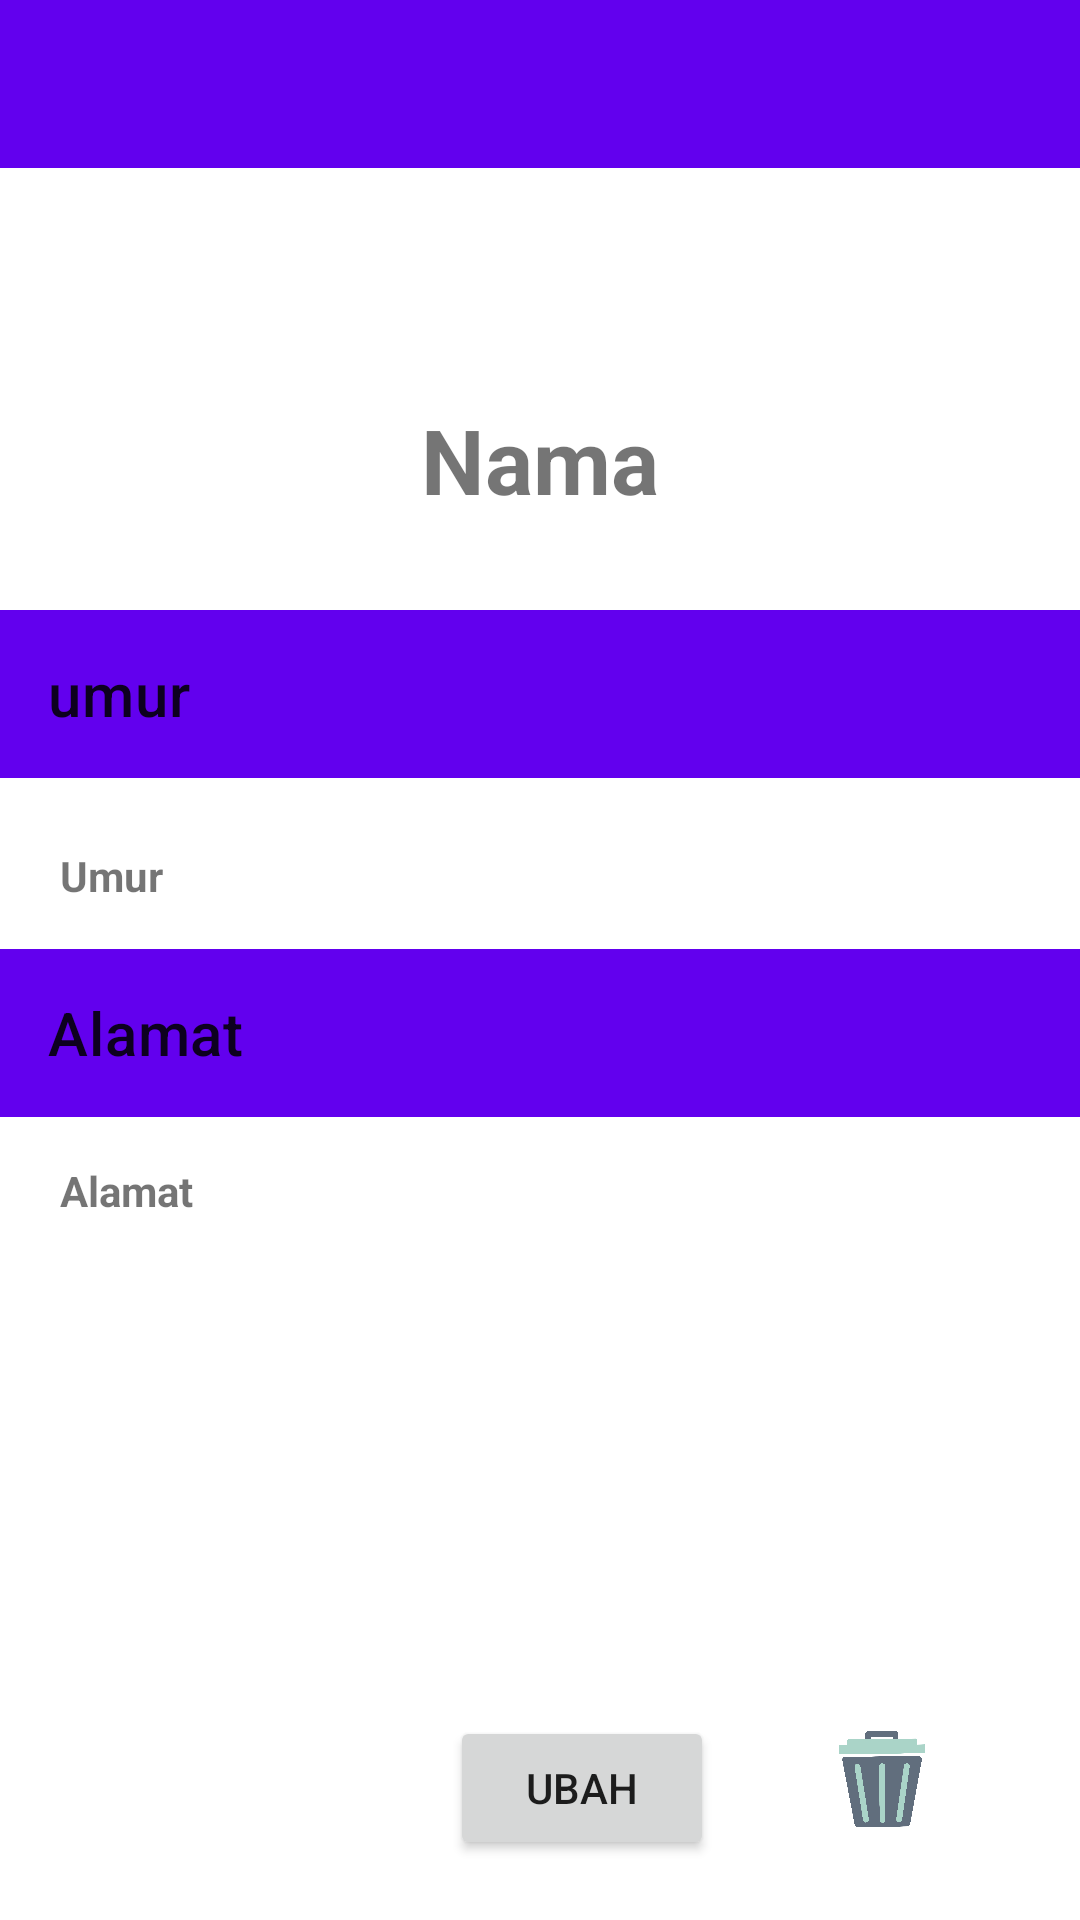

Icon bounding boxes for this 1080x1920 phone screenshot, format BBox(x1, y1, x2, y2):
delete: BBox(839, 1731, 925, 1827)
